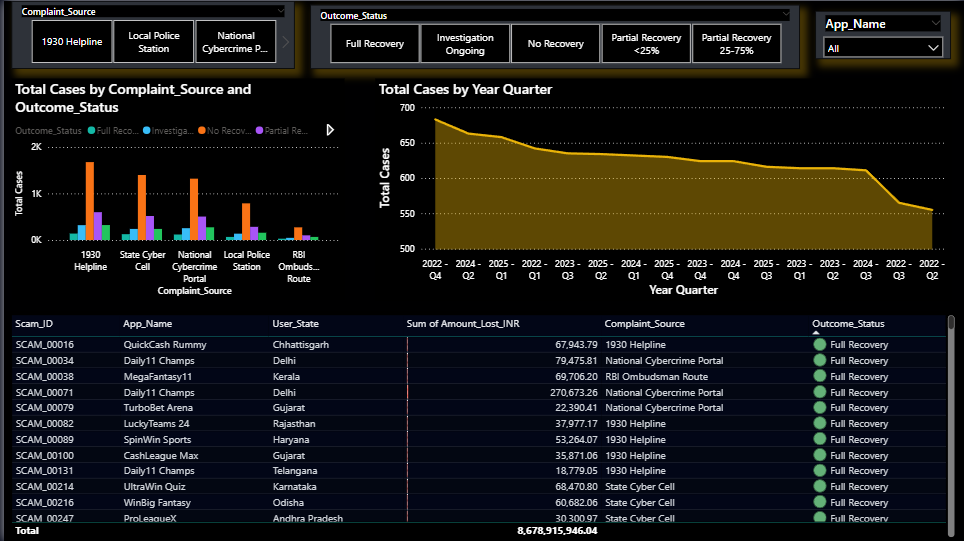

The dashboard page shown, as its layout file describes it:
{"tool":"powerbi","page":{"name":"Complaint ","canvas":[1280,720],"ordinal":3},"visuals":[{"type":"slicer","fields":{"Values":["Scam_Facts.Complaint_Source"]},"box":[9.7,0,377.6,90.5],"z":0},{"type":"slicer","fields":{"Values":["Scam_Facts.Outcome_Status"]},"box":[407.8,4.8,652.7,85.7],"z":1000},{"type":"slicer","fields":{"Values":["Scam_Facts.App_Name"]},"box":[1082.2,13.3,181,63.9],"z":2000},{"type":"lineClusteredColumnComboChart","fields":{"Category":["Scam_Facts.Complaint_Source"],"Y":["Scam_Facts.Total Cases"],"Series":["Scam_Facts.Outcome_Status"]},"box":[9.7,103.8,444,295.6],"z":3000},{"type":"areaChart","fields":{"Category":["Scam_Facts.Year Quarter"],"Y":["Scam_Facts.Total Cases"]},"box":[494.6,103.8,768.5,296.8],"z":4000},{"type":"tableEx","fields":{"Values":["Scam_Facts.Scam_ID","Scam_Facts.App_Name","Scam_Facts.User_State","Sum(Scam_Facts.Amount_Lost_INR)","Scam_Facts.Complaint_Source","Scam_Facts.Outcome_Status"]},"box":[3.6,412.6,1270.4,307.6],"z":5000}]}

Visuals, with their boxes in screenshot pixels (x1, y1, x2, y2), scaled from the page's 1280x720 canvas onto the 964x541 screenshot:
slicer - Scam_Facts.Complaint_Source: [7, 0, 292, 68]
slicer - Scam_Facts.Outcome_Status: [307, 4, 799, 68]
slicer - Scam_Facts.App_Name: [815, 10, 951, 58]
lineClusteredColumnComboChart - Scam_Facts.Complaint_Source x Scam_Facts.Total Cases: [7, 78, 342, 300]
areaChart - Scam_Facts.Year Quarter x Scam_Facts.Total Cases: [372, 78, 951, 301]
tableEx - Scam_Facts.Scam_ID x Scam_Facts.App_Name: [3, 310, 959, 540]
